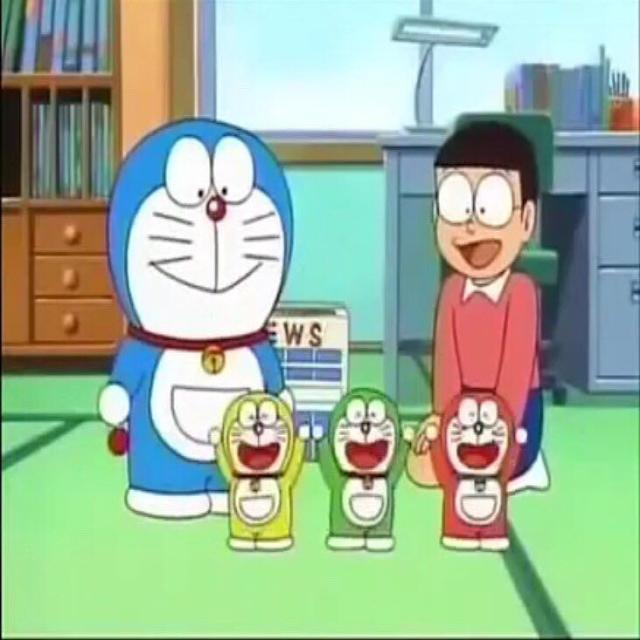doraemon: (100, 115, 296, 368)
nobita: (430, 115, 541, 292)
